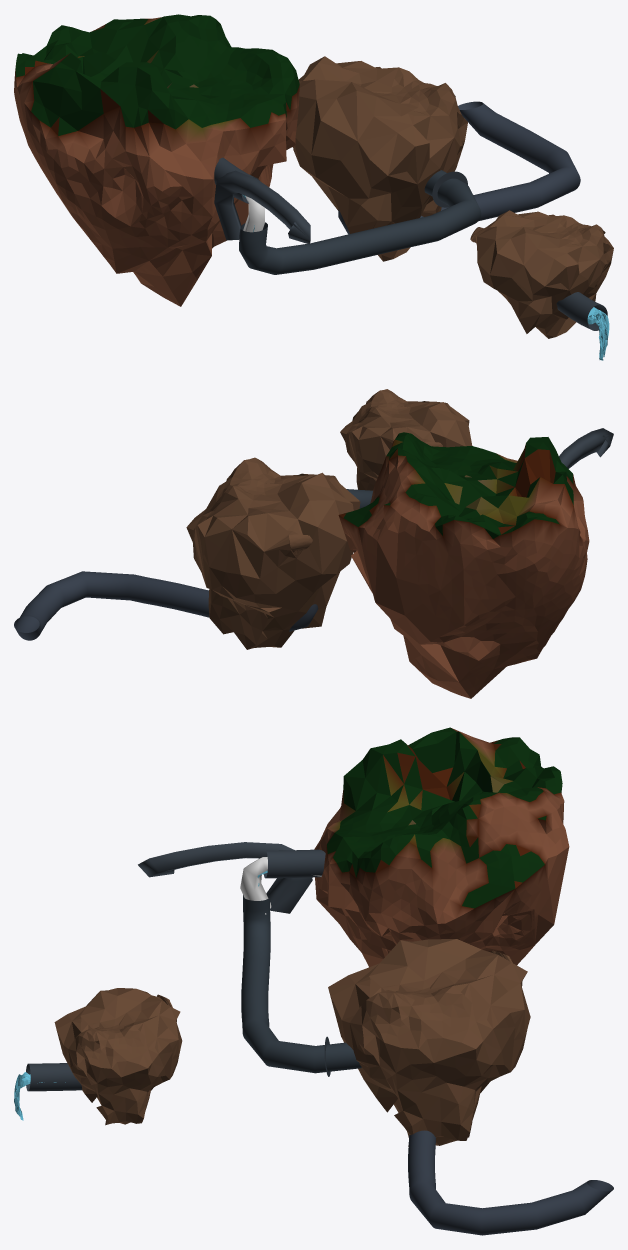
The model's file is Floatingland.glb.
3 renders of one model, top to bottom at view 1: azimuth 30°, elevation 25°; view 2: azimuth 150°, elevation 25°; view 3: azimuth 270°, elevation 25°, orthographic. The views are drawn at different scales.
Visible parts, largest first — view 1: Icosphere.001, Icosphere.002, Icosphere.003, BezierCurve, BezierCurve.009, BezierCurve.003, BezierCurve.008, Plane.001, BezierCurve.002; view 2: Icosphere.001, Icosphere.002, Icosphere.003, BezierCurve.009, BezierCurve.003; view 3: Icosphere.001, Icosphere.002, Icosphere.003, BezierCurve.009, BezierCurve, BezierCurve.003, BezierCurve.001, BezierCurve.008, BezierCurve.002.
Part boxes in pixels (<box>): Icosphere.001: <box>14,14,299,306</box>; Icosphere.002: <box>293,56,467,261</box>; Icosphere.003: <box>470,210,613,338</box>; BezierCurve: <box>239,170,481,274</box>; BezierCurve.009: <box>338,101,580,234</box>; BezierCurve.003: <box>214,170,310,244</box>; BezierCurve.008: <box>556,292,607,330</box>; Plane.001: <box>587,307,609,360</box>; BezierCurve.002: <box>243,196,264,232</box>; Icosphere.001: <box>338,432,589,698</box>; Icosphere.002: <box>186,457,360,649</box>; Icosphere.003: <box>340,389,472,490</box>; BezierCurve.009: <box>14,571,318,640</box>; BezierCurve.003: <box>559,428,613,468</box>; Icosphere.001: <box>314,727,569,967</box>; Icosphere.002: <box>328,939,530,1146</box>; Icosphere.003: <box>54,988,182,1125</box>; BezierCurve.009: <box>408,1130,613,1235</box>; BezierCurve: <box>241,893,361,1073</box>; BezierCurve.003: <box>138,842,312,913</box>; BezierCurve.001: <box>263,849,325,878</box>; BezierCurve.008: <box>26,1063,81,1091</box>; BezierCurve.002: <box>240,857,321,914</box>.
Size of the model in its own units: 4.67 by 2.16 by 4.31.
